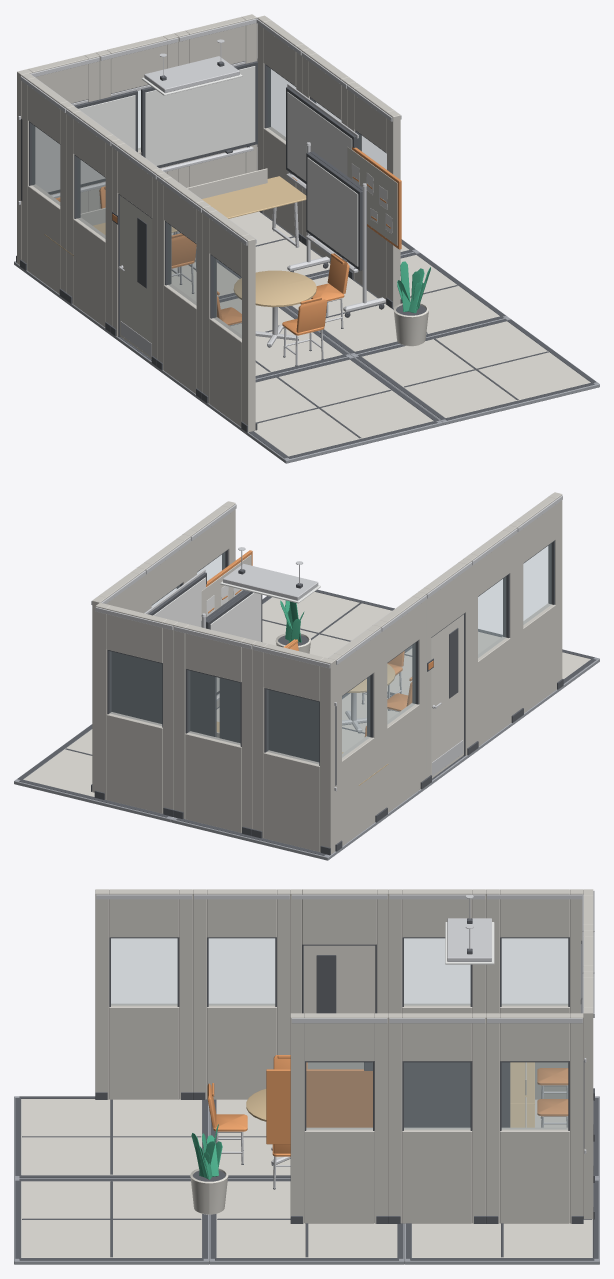
Rendered from academy-seminar-light.glb.
The picture shows the model from 3 angles, top to bottom: view 1: azimuth 30°, elevation 25°; view 2: azimuth 150°, elevation 25°; view 3: azimuth 270°, elevation 25°; orthographic projection. The views are drawn at different scales.
Parts seen in each view (by area): view 1: 018-floor-tile2, 172-whiteboard-bank1, 015-floor-tile2, 136-corridor-wall-module0, 133-corridor-wall-module0, 135-corridor-wall-module0, 132-corridor-wall-module0, 017-floor-tile2, 153-corridor-wall-module0, 151-corridor-wall-module0, 150-corridor-wall-module0, 134-door-module0 (+40 smaller); view 2: 148-corridor-wall-module0, 149-corridor-wall-module0, 150-corridor-wall-module0, 172-whiteboard-bank0, 133-corridor-wall-module0, 135-corridor-wall-module0, 136-corridor-wall-module0, 132-corridor-wall-module0, 018-floor-tile2, 134-door-module0, 134-door-moduleroom-doorcarcass, 149-corridor-wall-module3 (+32 smaller); view 3: 153-corridor-wall-module0, 136-corridor-wall-module0, 152-corridor-wall-module0, 151-corridor-wall-module0, 135-corridor-wall-module0, 015-floor-tile2, 018-floor-tile2, 017-floor-tile2, 132-corridor-wall-module0, 134-door-module0, 016-floor-tile2, 133-corridor-wall-module0 (+43 smaller).
Part boxes in pixels (bbox=[...]): 018-floor-tile2: bbox=[362, 321, 590, 417]; 172-whiteboard-bank1: bbox=[35, 66, 255, 192]; 015-floor-tile2: bbox=[254, 359, 433, 456]; 136-corridor-wall-module0: bbox=[203, 206, 255, 432]; 133-corridor-wall-module0: bbox=[67, 106, 119, 327]; 135-corridor-wall-module0: bbox=[157, 173, 209, 393]; 132-corridor-wall-module0: bbox=[21, 73, 73, 293]; 017-floor-tile2: bbox=[292, 255, 499, 351]; 153-corridor-wall-module0: bbox=[348, 82, 400, 308]; 151-corridor-wall-module0: bbox=[257, 15, 309, 236]; 150-corridor-wall-module0: bbox=[174, 14, 256, 187]; 134-door-module0: bbox=[112, 139, 164, 359]; 148-corridor-wall-module0: bbox=[252, 641, 335, 854]; 149-corridor-wall-module0: bbox=[174, 622, 256, 832]; 150-corridor-wall-module0: bbox=[95, 602, 177, 813]; 172-whiteboard-bank0: bbox=[111, 651, 336, 785]; 133-corridor-wall-module0: bbox=[374, 592, 425, 812]; 135-corridor-wall-module0: bbox=[464, 525, 516, 746]; 136-corridor-wall-module0: bbox=[509, 492, 562, 713]; 132-corridor-wall-module0: bbox=[328, 625, 380, 846]; 018-floor-tile2: bbox=[262, 592, 391, 657]; 134-door-module0: bbox=[419, 558, 471, 778]; 134-door-moduleroom-doorcarcass: bbox=[431, 614, 463, 778]; 149-corridor-wall-module3: bbox=[188, 670, 240, 744]; 153-corridor-wall-module0: bbox=[290, 1013, 388, 1223]; 136-corridor-wall-module0: bbox=[95, 889, 192, 1099]; 152-corridor-wall-module0: bbox=[388, 1013, 485, 1223]; 151-corridor-wall-module0: bbox=[486, 1013, 583, 1223]; 135-corridor-wall-module0: bbox=[193, 889, 290, 1099]; 015-floor-tile2: bbox=[21, 1099, 201, 1175]; 018-floor-tile2: bbox=[21, 1181, 201, 1257]; 017-floor-tile2: bbox=[216, 1181, 397, 1257]; 132-corridor-wall-module0: bbox=[486, 889, 583, 1099]; 134-door-module0: bbox=[290, 889, 388, 1013]; 016-floor-tile2: bbox=[412, 1219, 592, 1257]; 133-corridor-wall-module0: bbox=[388, 889, 485, 1013].
Size of the model in its own units: 4.83 by 3.39 by 7.2.
